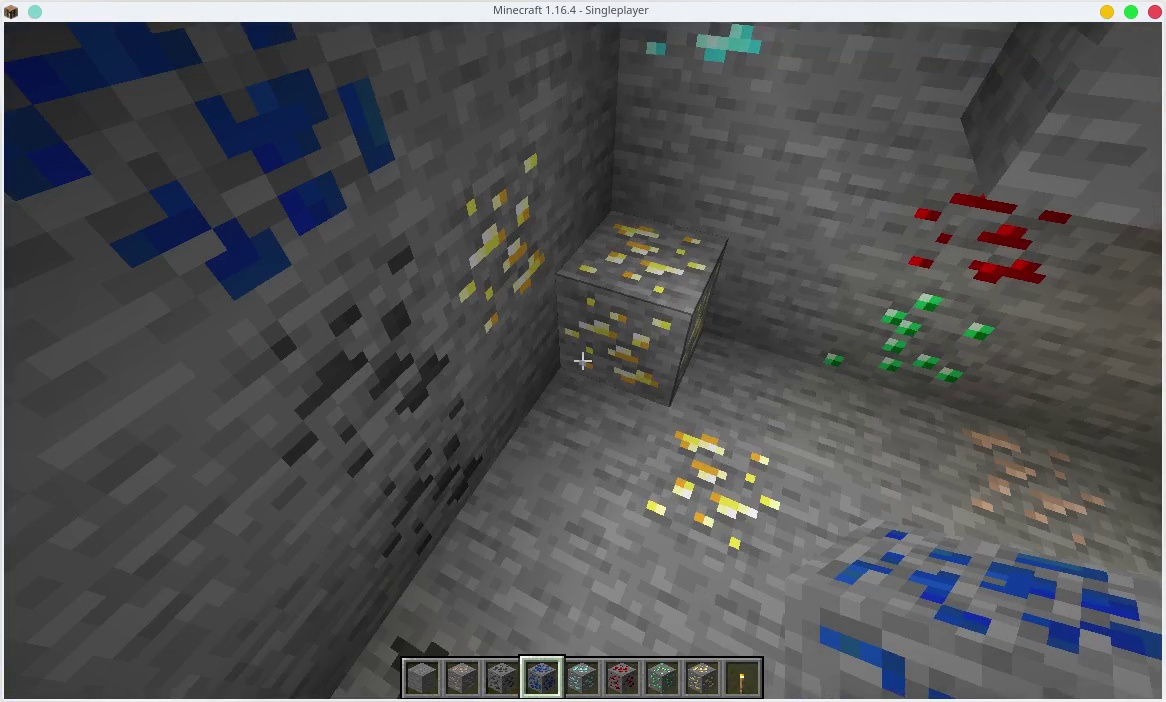gold: (562, 208, 753, 406), (640, 420, 797, 576), (454, 158, 543, 339), (684, 661, 718, 695)
